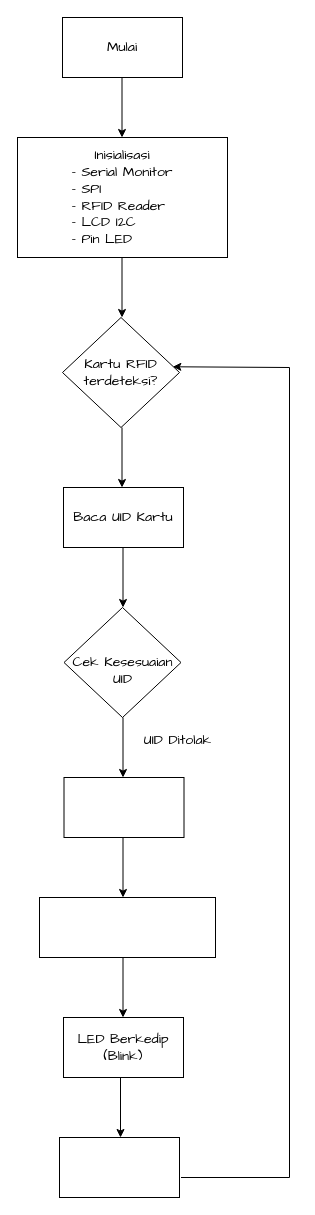
Some shapes in this 315 by 1215 pixel diagram are drawn without their labels. The shapes that lost their labels are listed below. From the top down, each one's centre as x and y in pixels, then its label:
At pixel 123 807: "Akses Ditolak".
At pixel 127 927: "Tampilkan 'Acces: DENY'".
At pixel 119 1167: "Kembali ke Scanning".
